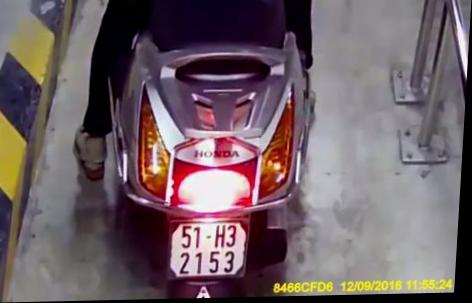License_Plate: (157, 215, 255, 285)
